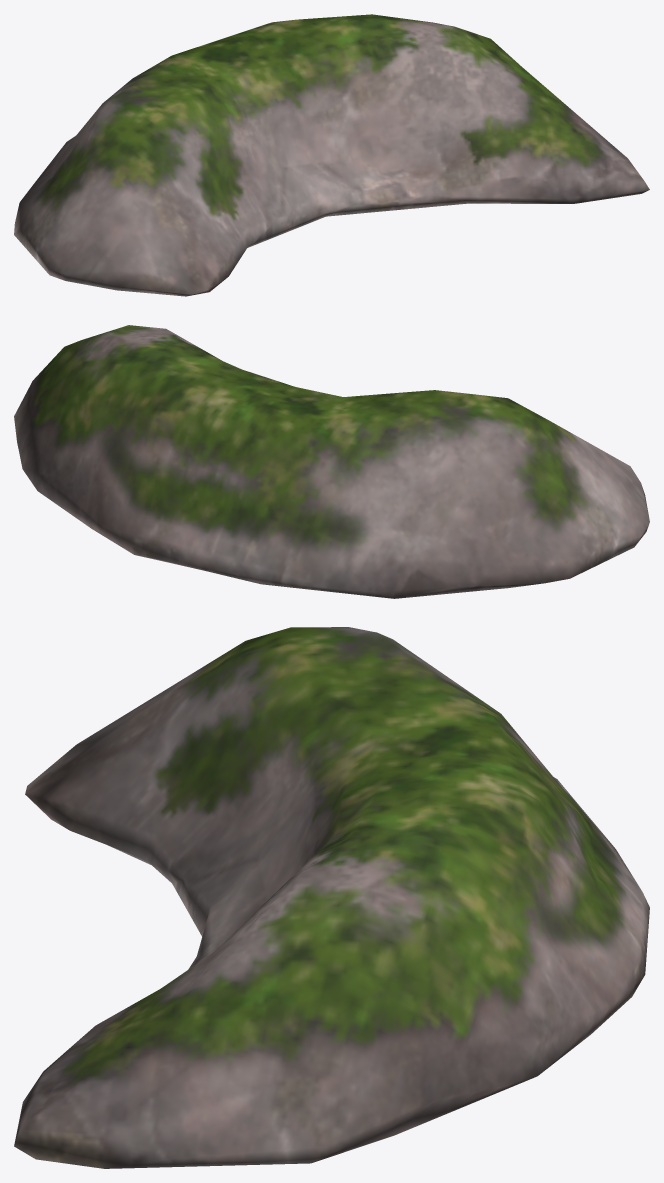
The model's file is land_rock_03.fbx.
3 views of the same model, one above another, from view 1: azimuth 30°, elevation 25°; view 2: azimuth 150°, elevation 25°; view 3: azimuth 270°, elevation 25° (orthographic). The views are drawn at different scales.
Visible parts, largest first — view 1: land_rock_03; view 2: land_rock_03; view 3: land_rock_03.
Boxes of the visible parts, x1,y1,x2,y2 form: land_rock_03: (14, 14, 649, 296); land_rock_03: (14, 325, 649, 598); land_rock_03: (14, 627, 649, 1168).
Size of the model in its own units: 23.91 by 6.41 by 15.
